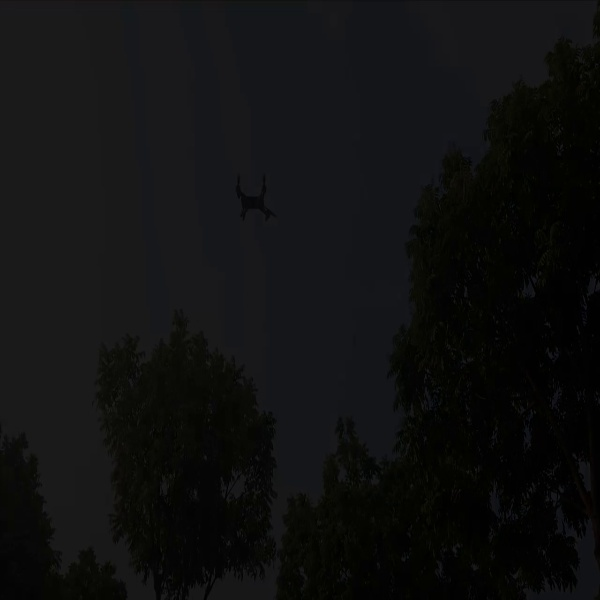drone: (226, 167, 281, 232)
